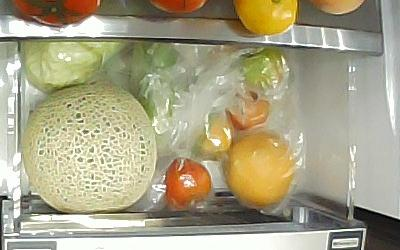cabbage: (21, 40, 131, 91)
melon: (22, 84, 157, 213)
pear_vinyl: (224, 130, 298, 211)
prune_vinyl: (165, 157, 213, 212)
tangerine_vinyl: (198, 115, 232, 156)
tomato_vinyl: (233, 47, 290, 94), (229, 97, 270, 131)
